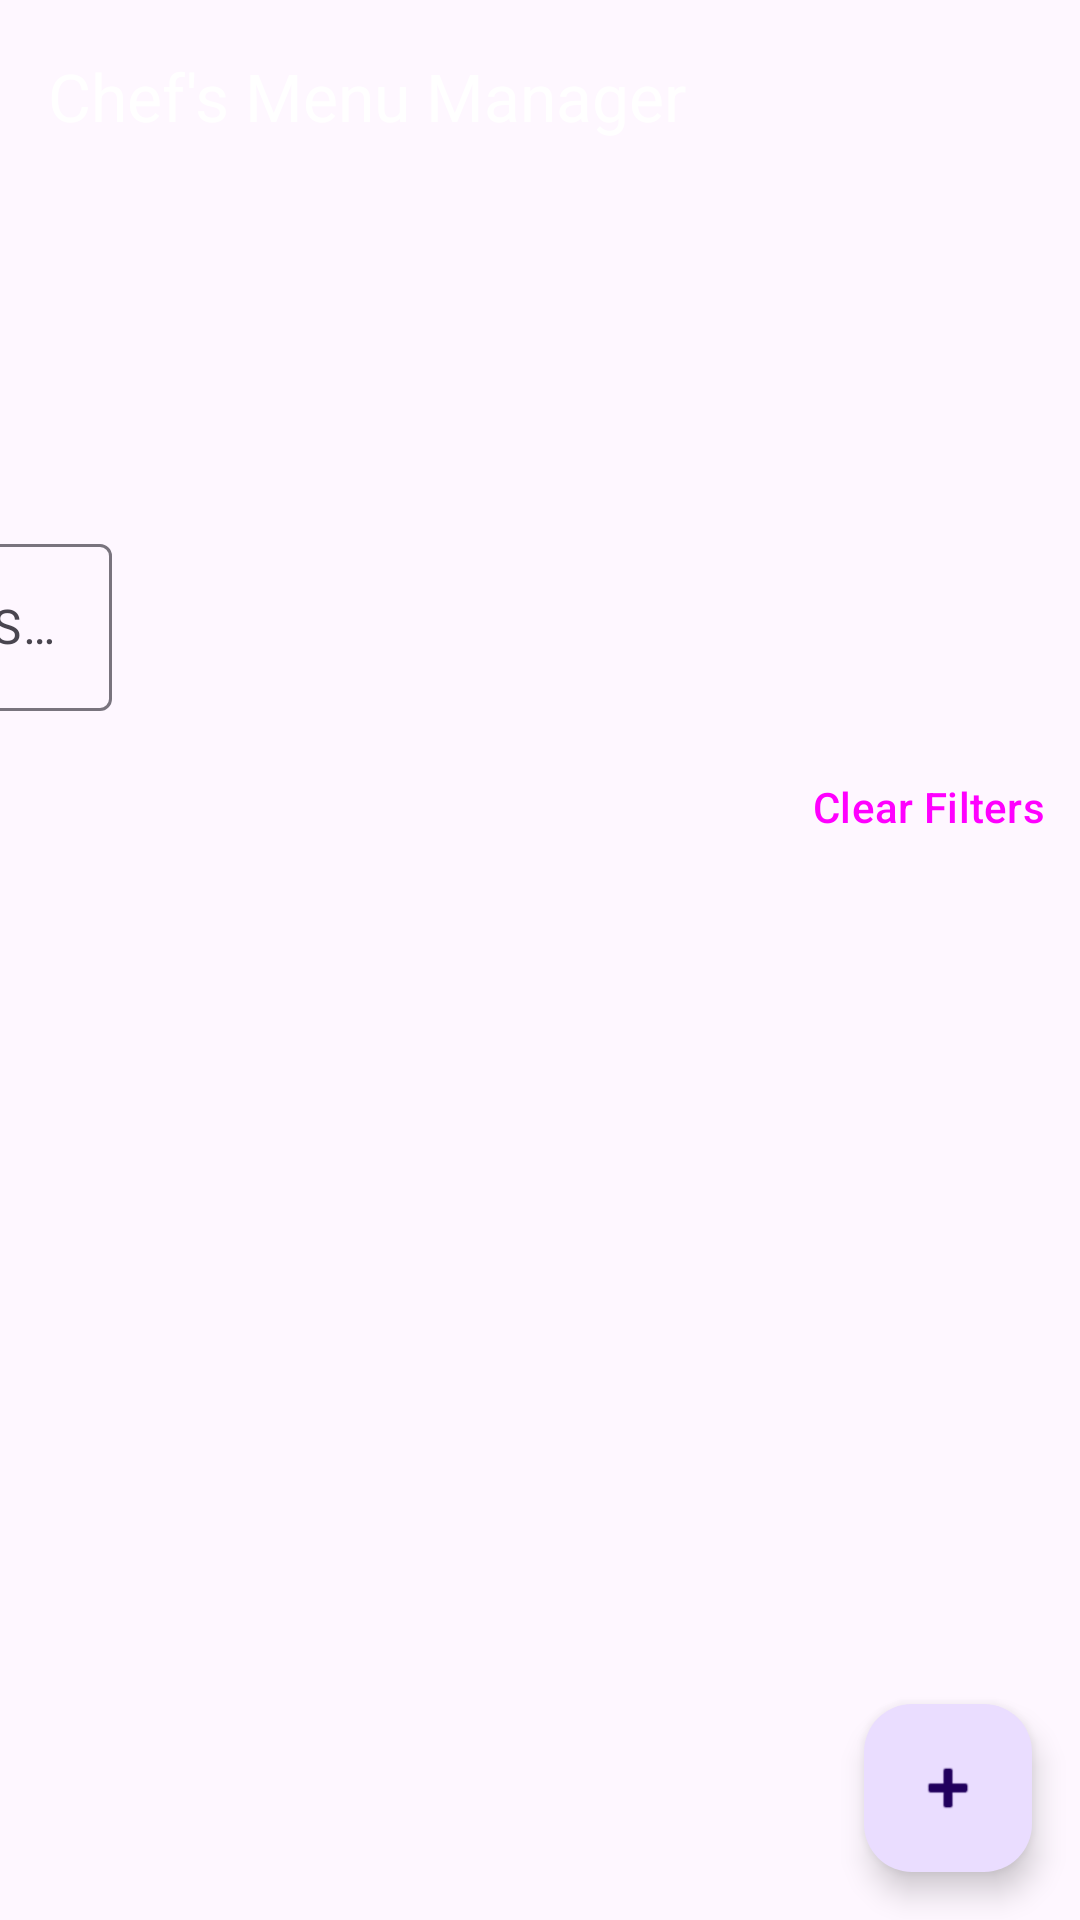

Icons on this 1080x1920 Android screen, each with its box as (x1, y1, x2, y2):
Add Menu Item: (864, 1704, 1032, 1872)
